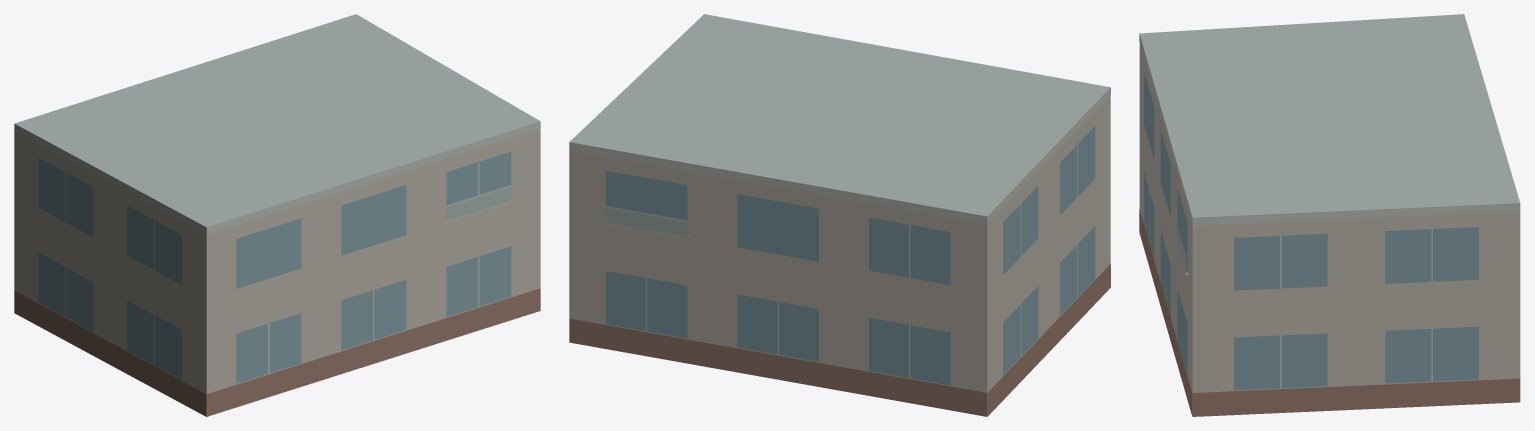
Rendered from survey-upis-32894300.glb.
3 renders of one model, left to right at view 1: azimuth 30°, elevation 25°; view 2: azimuth 150°, elevation 25°; view 3: azimuth 270°, elevation 25°, orthographic. The views are drawn at different scales.
Parts seen in each view (by area): view 1: survey-upis-32894300.tmp; view 2: survey-upis-32894300.tmp; view 3: survey-upis-32894300.tmp.
Boxes of the visible parts, x1,y1,x2,y2 form: survey-upis-32894300.tmp: [14, 14, 540, 416]; survey-upis-32894300.tmp: [569, 14, 1110, 416]; survey-upis-32894300.tmp: [1139, 14, 1520, 416].
Size of the model in its own units: 13.39 by 6.1 by 10.58.
